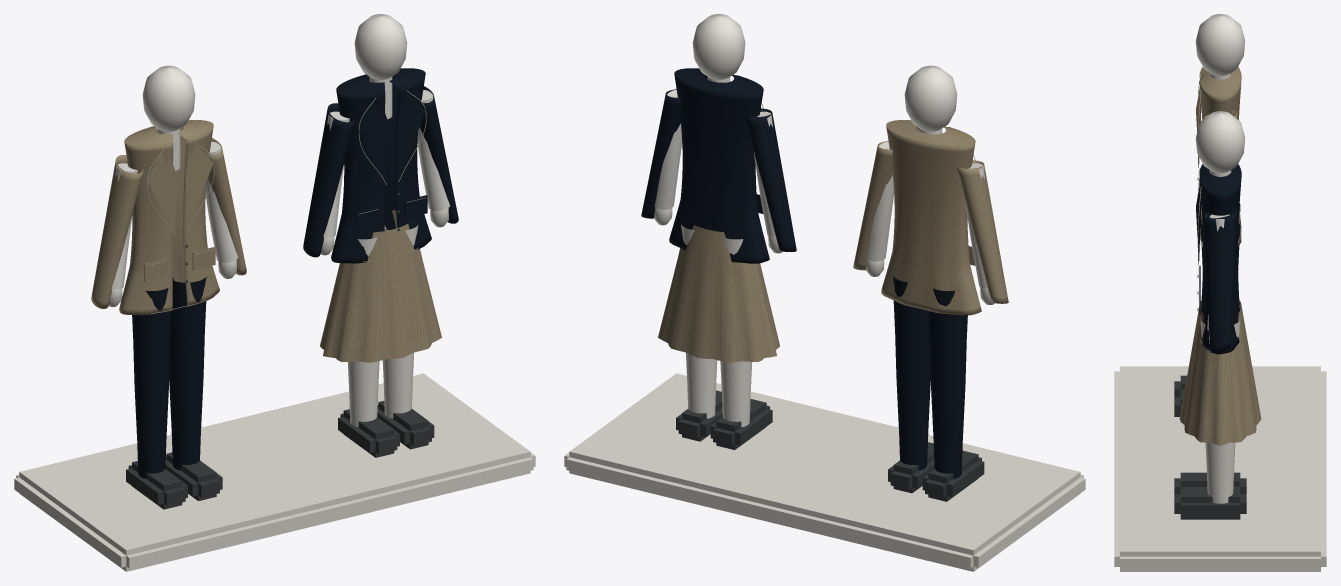
File: fixture_v25_window_outfits.glb
3 renders of one model, left to right at view 1: azimuth 30°, elevation 25°; view 2: azimuth 150°, elevation 25°; view 3: azimuth 270°, elevation 25°, orthographic. The views are drawn at different scales.
Visible parts, largest first — view 1: fixture_v25_window_outfits_Honed_solid_surface, fixture_v25_window_outfits_V25_linen_outfit, fixture_v25_window_outfits_V25_navy_outfit, fixture_v25_window_outfits_V25_porcelain_display, fixture_v25_window_outfits_Anodised_graphite; view 2: fixture_v25_window_outfits_Honed_solid_surface, fixture_v25_window_outfits_V25_linen_outfit, fixture_v25_window_outfits_V25_navy_outfit, fixture_v25_window_outfits_V25_porcelain_display, fixture_v25_window_outfits_Anodised_graphite; view 3: fixture_v25_window_outfits_Honed_solid_surface, fixture_v25_window_outfits_V25_linen_outfit, fixture_v25_window_outfits_V25_navy_outfit, fixture_v25_window_outfits_V25_porcelain_display, fixture_v25_window_outfits_Anodised_graphite.
Part boxes in pixels (bbox=[...]): fixture_v25_window_outfits_Honed_solid_surface: bbox=[14, 373, 535, 571]; fixture_v25_window_outfits_V25_linen_outfit: bbox=[91, 120, 441, 362]; fixture_v25_window_outfits_V25_navy_outfit: bbox=[132, 68, 458, 478]; fixture_v25_window_outfits_V25_porcelain_display: bbox=[108, 14, 450, 427]; fixture_v25_window_outfits_Anodised_graphite: bbox=[126, 401, 434, 509]; fixture_v25_window_outfits_Honed_solid_surface: bbox=[564, 373, 1085, 571]; fixture_v25_window_outfits_V25_linen_outfit: bbox=[658, 120, 1008, 362]; fixture_v25_window_outfits_V25_navy_outfit: bbox=[641, 68, 967, 478]; fixture_v25_window_outfits_V25_porcelain_display: bbox=[654, 14, 994, 427]; fixture_v25_window_outfits_Anodised_graphite: bbox=[676, 390, 984, 501]; fixture_v25_window_outfits_Honed_solid_surface: bbox=[1114, 366, 1326, 571]; fixture_v25_window_outfits_V25_linen_outfit: bbox=[1179, 67, 1261, 445]; fixture_v25_window_outfits_V25_navy_outfit: bbox=[1196, 164, 1241, 354]; fixture_v25_window_outfits_V25_porcelain_display: bbox=[1195, 14, 1245, 503]; fixture_v25_window_outfits_Anodised_graphite: bbox=[1174, 375, 1246, 519].
Size of the model in its own units: 1.8 by 1.83 by 0.85.
Materials: 9 (2 with a texture image).
